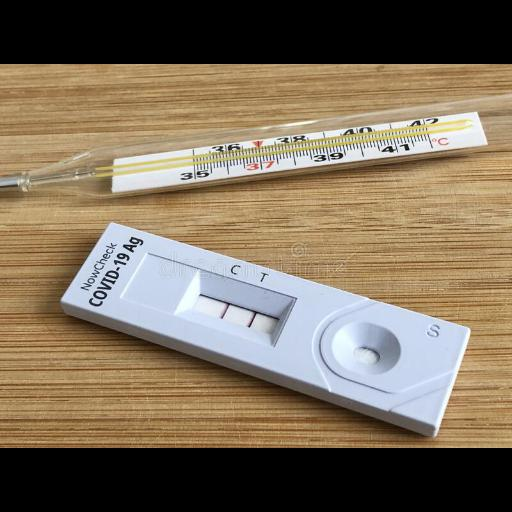Pos: (62, 222, 470, 428)
